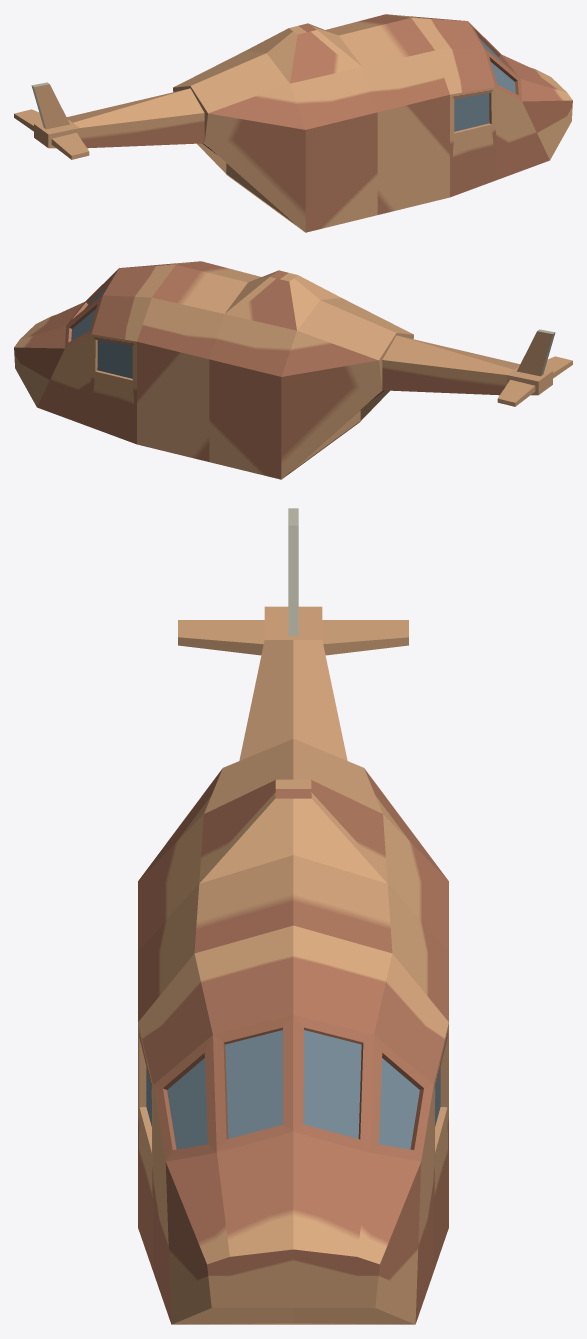
The model's file is BossLv1HeliBody.fbx.
The picture shows the model from 3 angles, top to bottom: view 1: azimuth 30°, elevation 25°; view 2: azimuth 150°, elevation 25°; view 3: azimuth 270°, elevation 25°; orthographic projection. The views are drawn at different scales.
Parts seen in each view (by area): view 1: BossLv1HeliBody; view 2: BossLv1HeliBody; view 3: BossLv1HeliBody.
Boxes of the visible parts, x1,y1,x2,y2 form: BossLv1HeliBody: (14,14,572,232); BossLv1HeliBody: (14,261,572,479); BossLv1HeliBody: (138,508,448,1324).
Bounding box in the file's own units: 3074 × 992 × 798.
